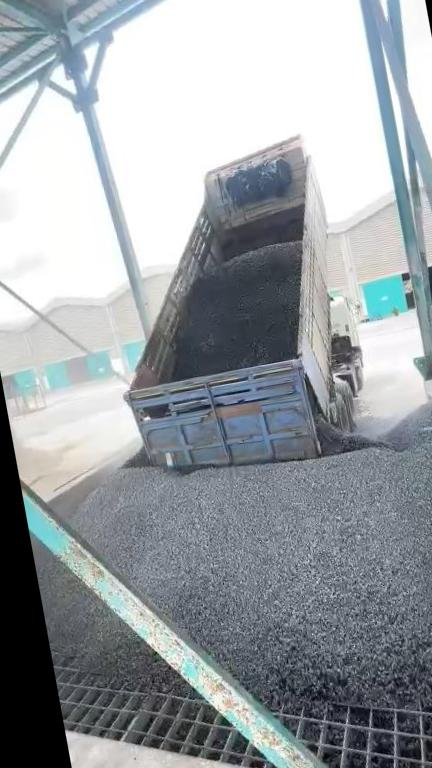gravel: (53, 400, 432, 707), (31, 537, 186, 692), (176, 243, 302, 377)
sand: (11, 424, 95, 499)
